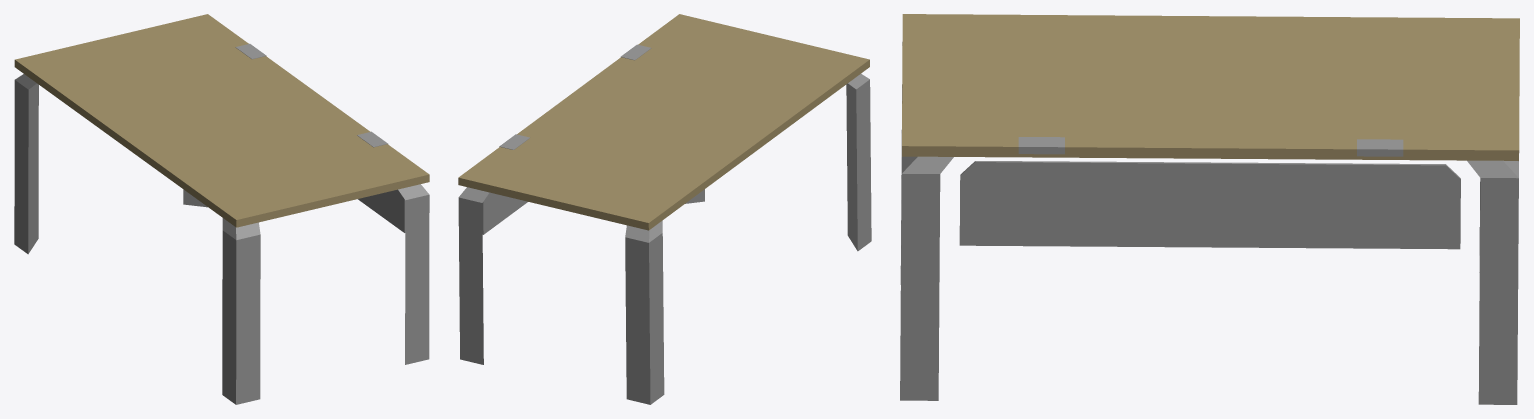
File: office_desk.dae
The picture shows the model from 3 angles, left to right: view 1: azimuth 30°, elevation 25°; view 2: azimuth 150°, elevation 25°; view 3: azimuth 270°, elevation 25°; orthographic projection. The views are drawn at different scales.
Parts seen in each view (by area): view 1: office_desk; view 2: office_desk; view 3: office_desk.
Boxes of the visible parts, box(x1,y1,x2,y2) form: office_desk: box(14, 14, 429, 404); office_desk: box(458, 14, 871, 404); office_desk: box(900, 14, 1519, 404).
Bounding box in the file's own units: 0.8099 × 1.61 × 0.7455.
